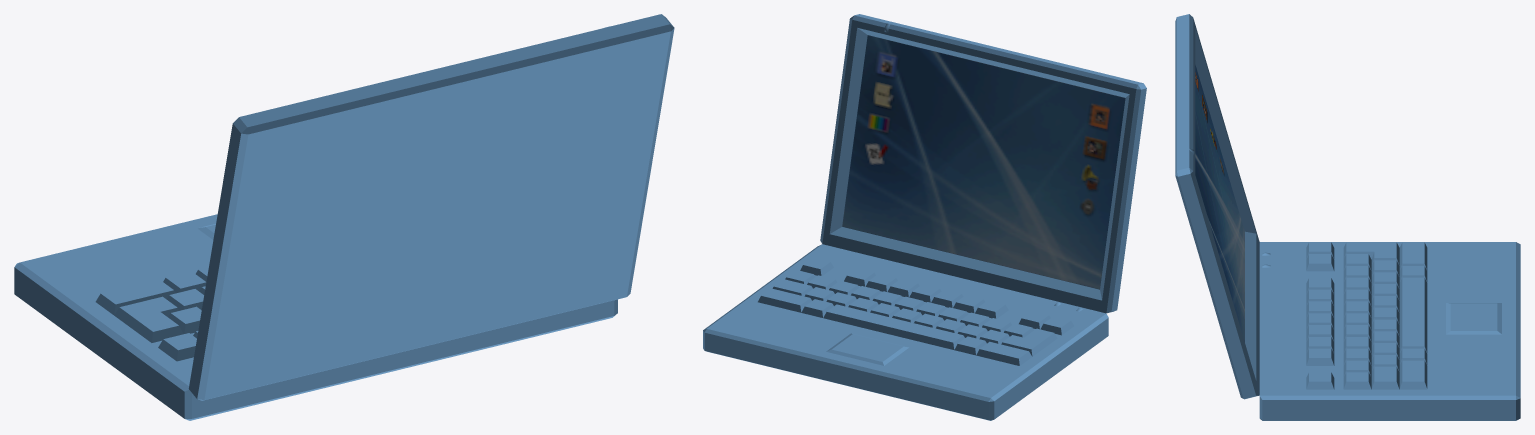
Rendered from sekiban.ico.obj.
3 views of the same model, side by side, from view 1: azimuth 30°, elevation 25°; view 2: azimuth 150°, elevation 25°; view 3: azimuth 270°, elevation 25° (orthographic). The views are drawn at different scales.
Size of the model in its own units: 5 by 3.75 by 4.63.
1 material, 1 textured.
